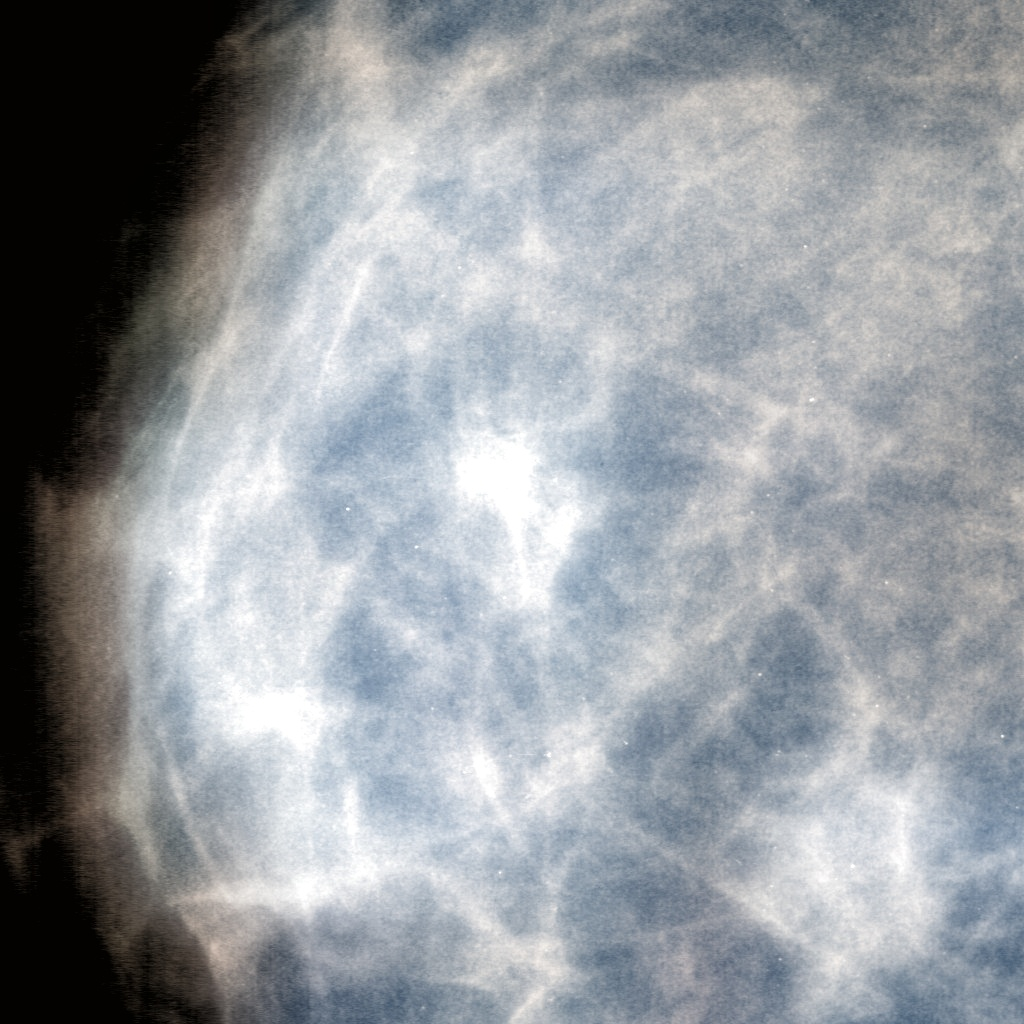tumor: (391, 380, 633, 644)
